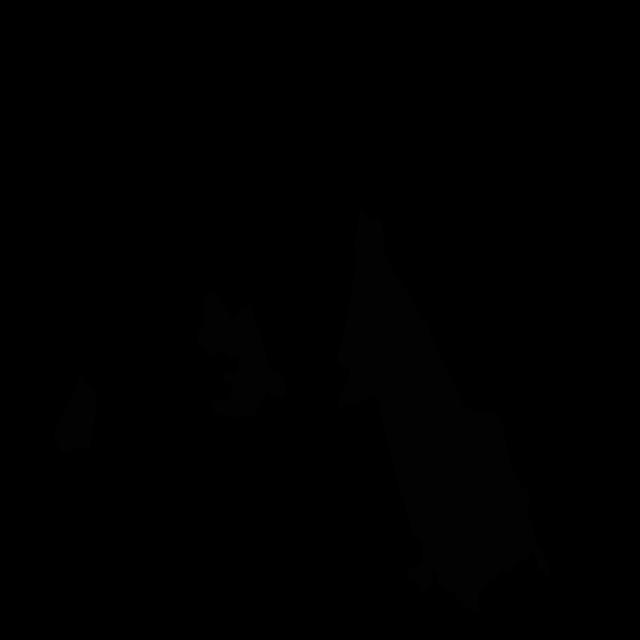cardboard: (336, 211, 550, 611), (197, 291, 286, 417), (338, 367, 409, 453), (53, 374, 96, 453)
